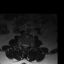CCS_normal: (24, 42, 26, 49)
LFS_normal: (28, 42, 30, 48)
LLS_normal: (26, 42, 28, 48)
RFS_normal: (20, 41, 22, 47)
RLS_normal: (22, 42, 24, 48)
